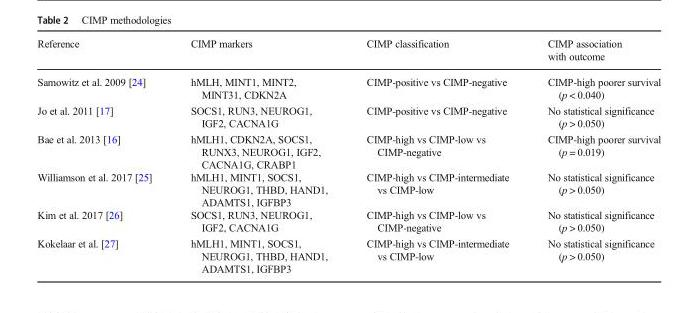table: (36, 37, 660, 273)
table column: (346, 37, 527, 273), (170, 37, 346, 273), (36, 37, 170, 273), (527, 37, 660, 273)
table column header: (36, 37, 660, 68)
table row: (36, 130, 660, 170), (36, 234, 660, 273), (36, 170, 660, 208), (36, 68, 660, 102), (36, 37, 660, 68), (36, 102, 660, 130), (36, 208, 660, 234)
